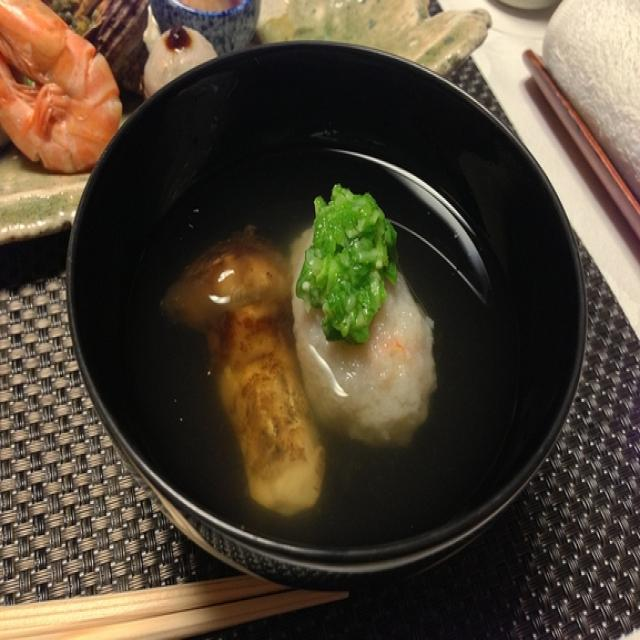汤锅炖物: (84, 53, 584, 591)
